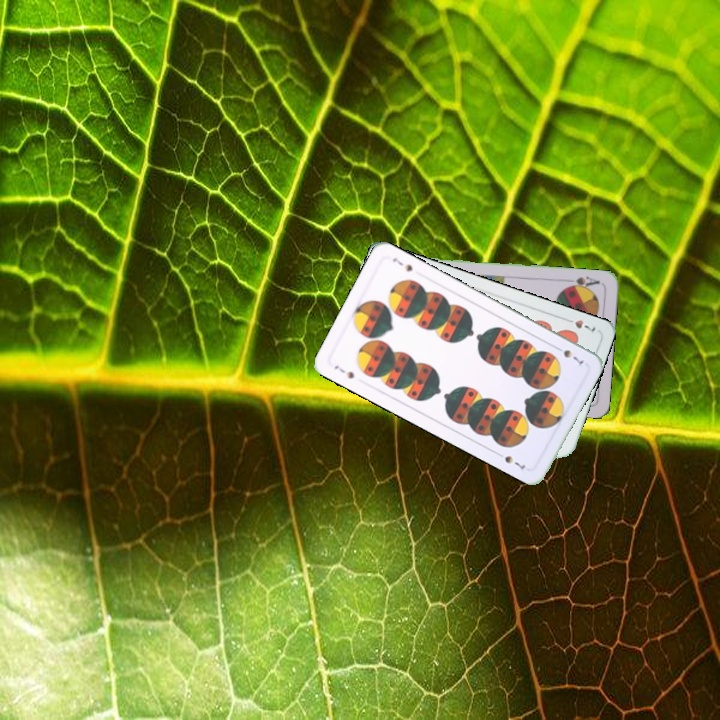H7: (560, 314, 598, 334)
S7: (551, 342, 586, 368), (330, 361, 357, 381)
SA: (562, 272, 602, 292)
